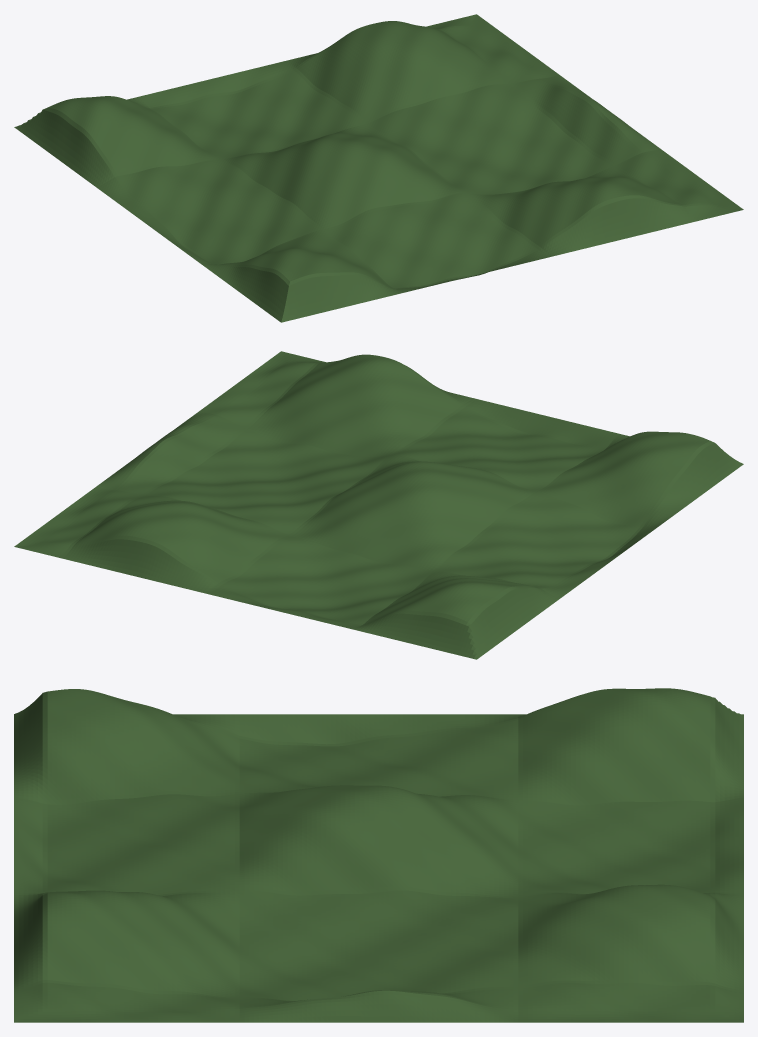
The model's file is harbor_mangrove_flats.obj.
3 renders of one model, top to bottom at view 1: azimuth 30°, elevation 25°; view 2: azimuth 150°, elevation 25°; view 3: azimuth 270°, elevation 25°, orthographic. The views are drawn at different scales.
Parts seen in each view (by area): view 1: harbor_mangrove_flats; view 2: harbor_mangrove_flats; view 3: harbor_mangrove_flats.
Part boxes in pixels (<box>): harbor_mangrove_flats: <box>14,14,743,322</box>; harbor_mangrove_flats: <box>14,351,743,659</box>; harbor_mangrove_flats: <box>14,688,743,1022</box>.
Size of the model in its own units: 160 by 16.55 by 160.
